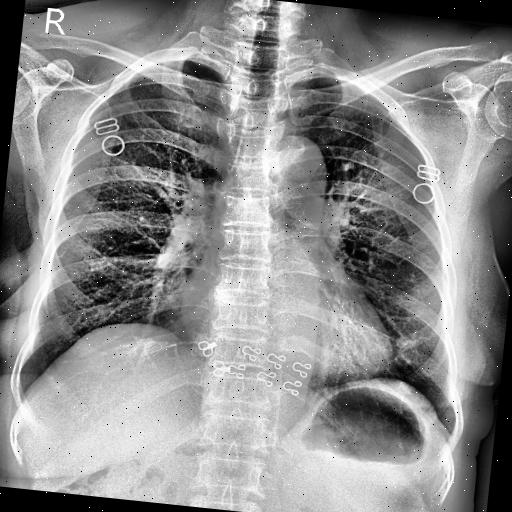0- Aortic enlargement: (253, 133, 331, 222), (270, 135, 332, 200), (258, 134, 332, 188)
